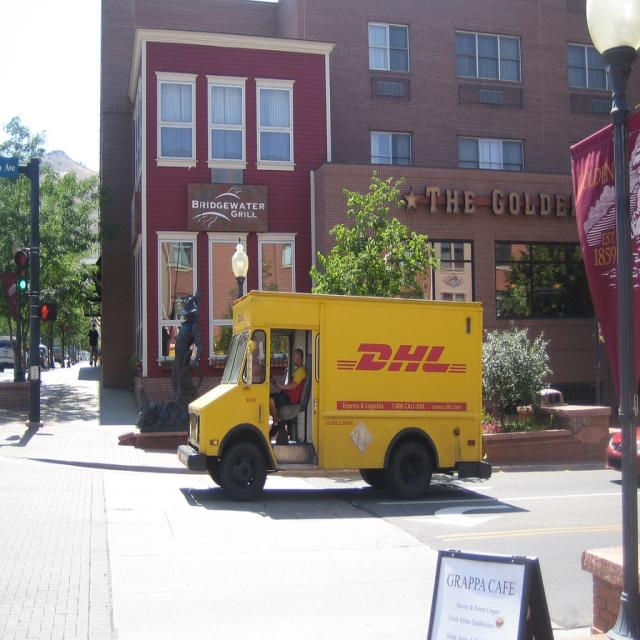dhl: (334, 337, 473, 383)
